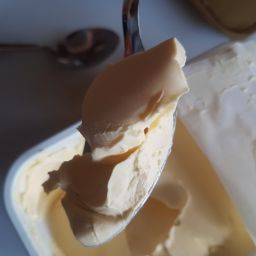Butter: (13, 101, 256, 256), (74, 39, 204, 217)
